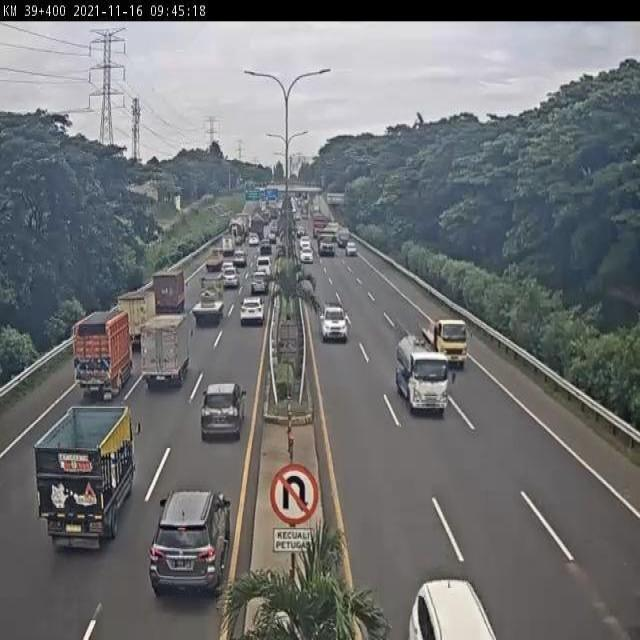ARABA: (148, 486, 234, 594), (200, 384, 247, 443), (321, 303, 349, 341), (239, 296, 265, 327), (250, 272, 270, 297), (229, 248, 248, 271), (220, 265, 237, 287)
KAMYONET: (35, 408, 139, 548), (72, 309, 134, 396), (395, 332, 449, 415), (140, 313, 189, 388), (114, 293, 156, 348), (420, 320, 467, 368), (152, 268, 184, 321), (191, 285, 227, 328), (206, 247, 226, 270)
OTOBUS: (254, 259, 273, 280)
